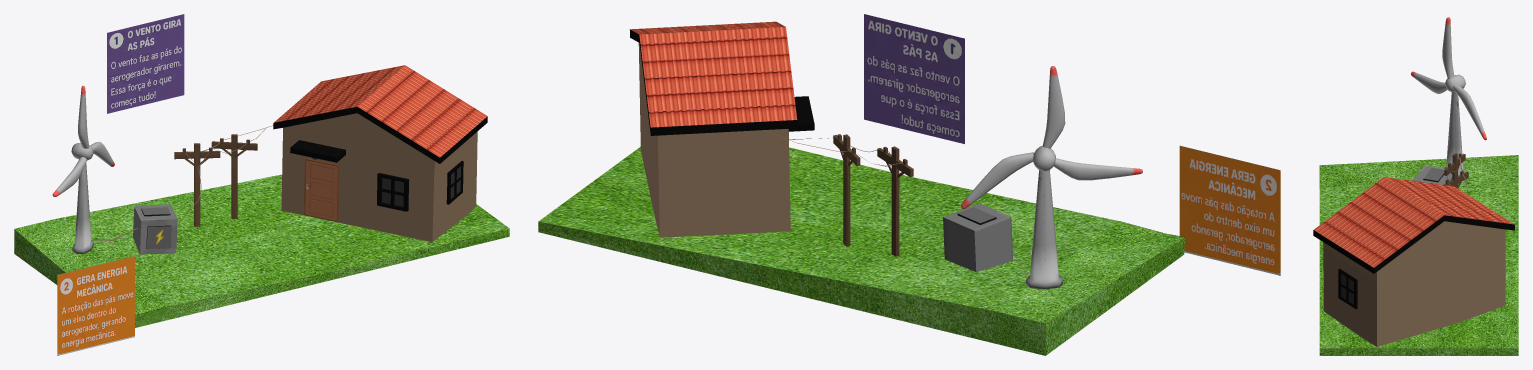
File: filtro.glb
3 renders of one model, left to right at view 1: azimuth 30°, elevation 25°; view 2: azimuth 150°, elevation 25°; view 3: azimuth 270°, elevation 25°, orthographic. The views are drawn at different scales.
Visible parts, largest first — view 1: chao, casa, Plane, Plane.001, transmissor, helice, base, poste, poste2; view 2: chao, casa, Plane.001, Plane, helice, transmissor, base, poste2, poste; view 3: casa, chao, helice, base, transmissor, poste2, poste.
Boxes of the visible parts, box(x1,y1,x2,y2) form: chao: box(14, 174, 509, 327); casa: box(273, 65, 487, 242); Plane: box(107, 14, 184, 113); Plane.001: box(57, 256, 134, 355); transmissor: box(133, 204, 177, 254); helice: box(52, 85, 114, 196); base: box(72, 163, 93, 253); poste: box(211, 134, 257, 219); poste2: box(174, 143, 220, 226); chao: box(538, 147, 1185, 355); casa: box(629, 21, 814, 237); Plane.001: box(1179, 145, 1280, 275); Plane: box(864, 14, 964, 143); helice: box(961, 66, 1142, 209); transmissor: box(943, 203, 1013, 271); base: box(1026, 170, 1062, 289); poste2: box(877, 146, 913, 256); poste: box(833, 134, 860, 246); casa: box(1313, 177, 1514, 346); chao: box(1319, 155, 1518, 355); helice: box(1411, 17, 1486, 140); base: box(1444, 92, 1465, 176); transmissor: box(1413, 165, 1452, 184); poste2: box(1444, 153, 1465, 175); poste: box(1443, 170, 1468, 188).
Size of the model in its own units: 13 by 5.8 by 5.41.
4 materials, 2 textured.
